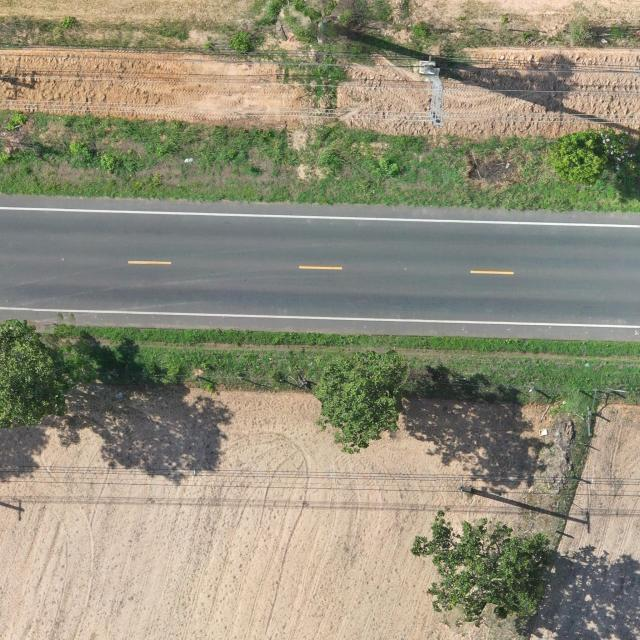Tree: (408, 509, 550, 628), (310, 349, 404, 456), (0, 318, 72, 431), (549, 127, 632, 187)
